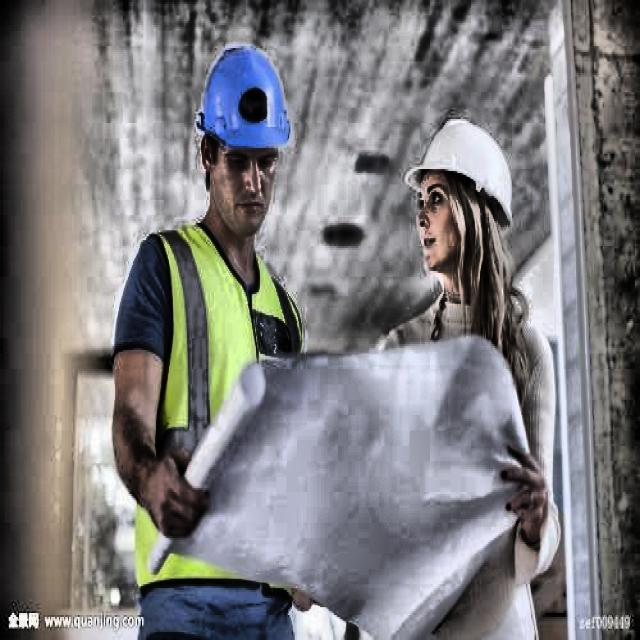helmet: (178, 32, 303, 258), (404, 104, 518, 306)
